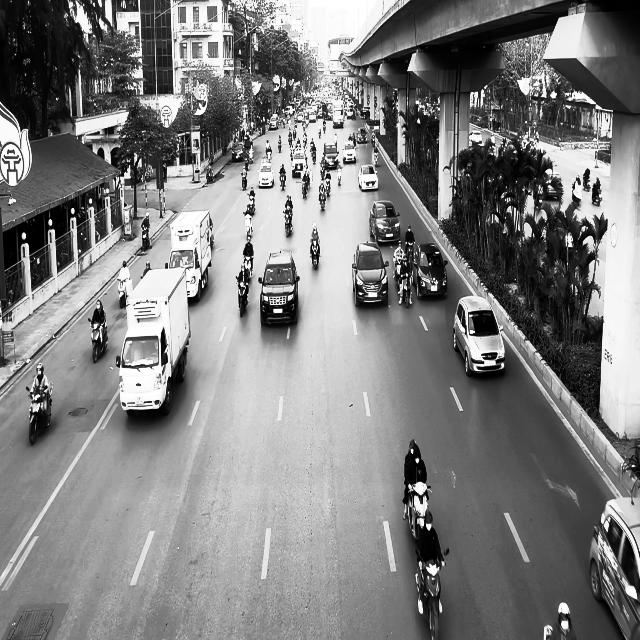car: (588, 496, 640, 640), (453, 294, 505, 376), (258, 249, 300, 326), (352, 241, 389, 307), (412, 242, 448, 300), (370, 200, 400, 244), (358, 164, 378, 192), (291, 149, 307, 178), (258, 162, 274, 188), (324, 142, 339, 168), (342, 141, 356, 163)
motorbike: (415, 546, 449, 640), (26, 383, 52, 445), (406, 482, 431, 540), (88, 316, 108, 362), (235, 276, 249, 317), (118, 277, 132, 308), (400, 273, 411, 307), (310, 238, 320, 269), (283, 209, 293, 237), (243, 211, 252, 241), (243, 255, 253, 281), (141, 224, 150, 251), (591, 186, 602, 206), (318, 186, 326, 210), (300, 176, 308, 198), (247, 194, 255, 214), (206, 163, 213, 183), (279, 171, 286, 190), (336, 165, 342, 185), (241, 171, 247, 190)
truck: (116, 266, 190, 417), (165, 210, 212, 302)
